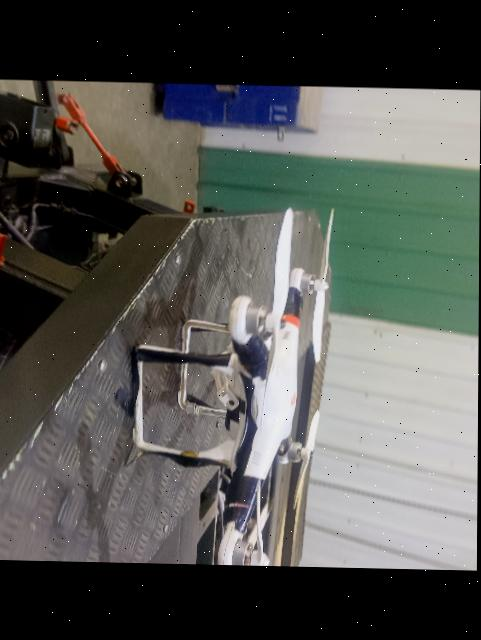drone: (102, 223, 348, 567)
